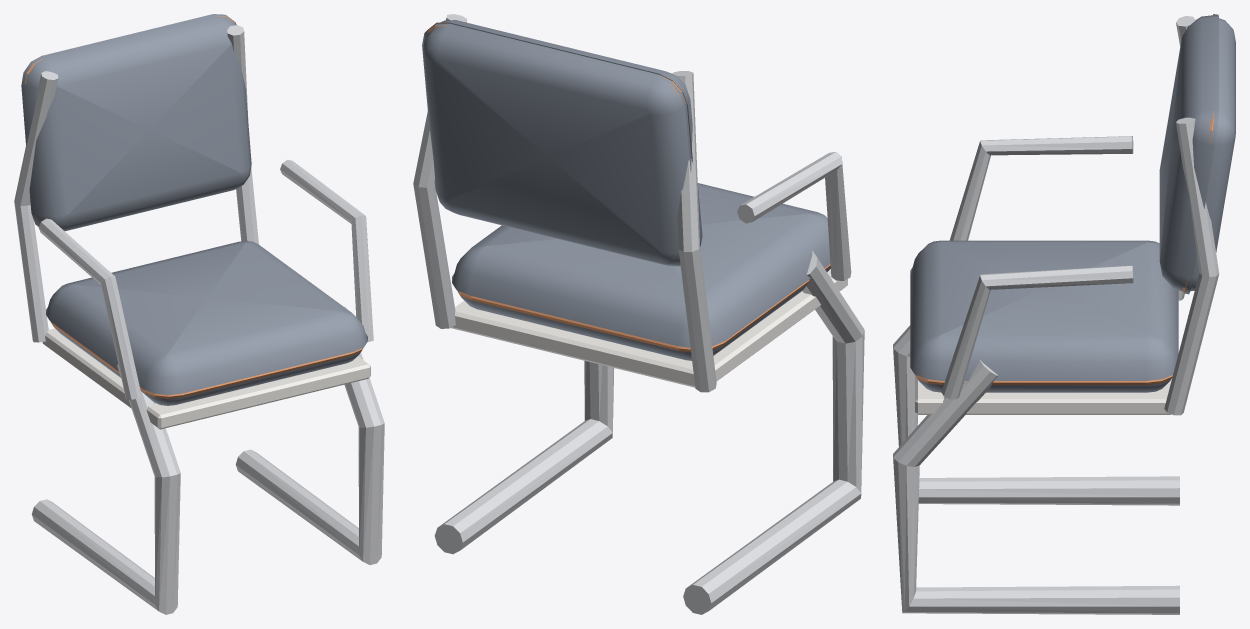
File: downtown-office-interiors-meeting-chair-cantilever-fdb6d31a__16986.glb
3 renders of one model, left to right at view 1: azimuth 30°, elevation 25°; view 2: azimuth 150°, elevation 25°; view 3: azimuth 270°, elevation 25°, orthographic. The views are drawn at different scales.
Parts seen in each view (by area): view 1: meeting-chair-cantilever; view 2: meeting-chair-cantilever; view 3: meeting-chair-cantilever.
Boxes of the visible parts, bbox=[...] form: meeting-chair-cantilever: bbox=[14, 14, 384, 614]; meeting-chair-cantilever: bbox=[413, 14, 864, 614]; meeting-chair-cantilever: bbox=[893, 14, 1235, 614].
Size of the model in its own units: 0.572 by 0.9295 by 0.5824.
